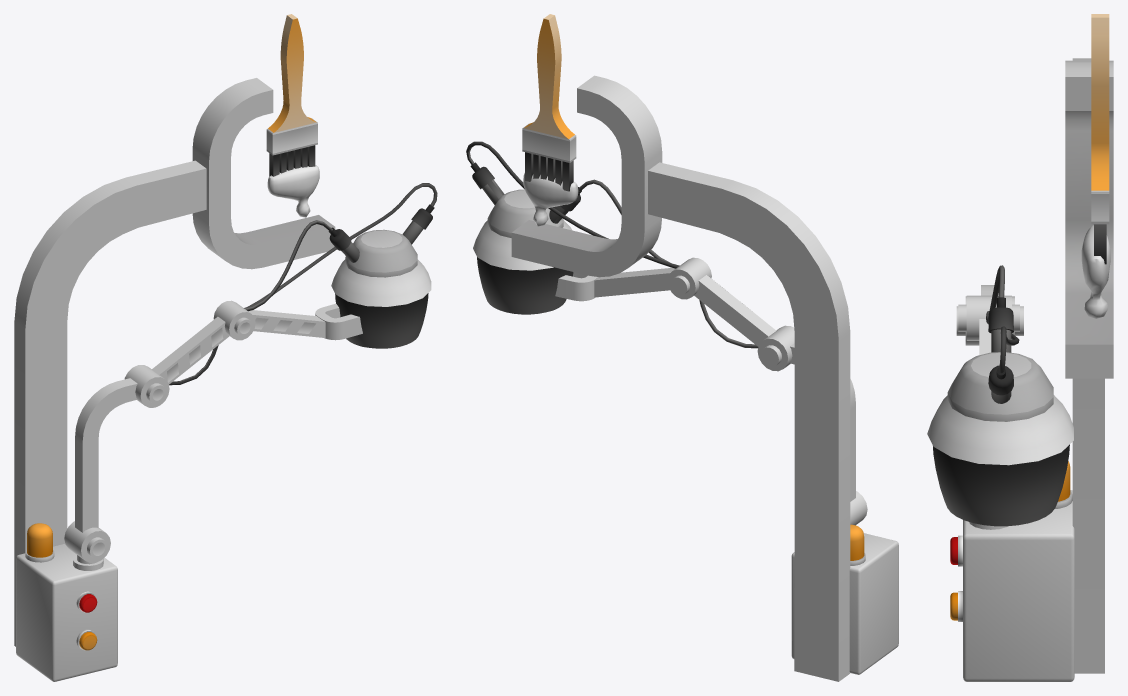
The model's file is baby_boss_sac_boyama.fbx.
3 views of the same model, side by side, from view 1: azimuth 30°, elevation 25°; view 2: azimuth 150°, elevation 25°; view 3: azimuth 270°, elevation 25° (orthographic). The views are drawn at different scales.
Visible parts, largest first — view 1: baby_boss_sac_boyama_tabela, baby_boss_sac_boyama_kutu, baby_boss_sac_boyama_kabin, baby_boss_boya_firca, baby_boss_sac_boyama_kol1, baby_boss_sac_boyama_kol2, baby_boss_sac_boyama_yuvarlak1, baby_boss_sac_boyama_kol3, BezierCurve.001, baby_boss_sac_boyama_yuvarlak2, baby_boss_sac_boyama_kol4, baby_boss_sac_boyama_yuvarlak3 (+1 smaller); view 2: baby_boss_sac_boyama_tabela, baby_boss_sac_boyama_kabin, baby_boss_boya_firca, baby_boss_sac_boyama_kutu, baby_boss_sac_boyama_kol2, baby_boss_sac_boyama_kol3, baby_boss_sac_boyama_yuvarlak2, baby_boss_sac_boyama_yuvarlak3, BezierCurve.001, baby_boss_sac_boyama_kol4, baby_boss_sac_boyama_kol1; view 3: baby_boss_sac_boyama_kabin, baby_boss_sac_boyama_tabela, baby_boss_sac_boyama_kutu, baby_boss_boya_firca, baby_boss_sac_boyama_yuvarlak3, BezierCurve.001, baby_boss_sac_boyama_siren, baby_boss_sac_boyama_kol3, baby_boss_sac_boyama_yuvarlak2, baby_boss_sac_boyama_dugme1, baby_boss_sac_boyama_dugme2.
Part boxes in pixels (x1=…): baby_boss_sac_boyama_tabela: x1=14, y1=78, x2=335, y2=646; baby_boss_sac_boyama_kutu: x1=16, y1=543, x2=117, y2=681; baby_boss_sac_boyama_kabin: x1=328, y1=204, x2=434, y2=348; baby_boss_boya_firca: x1=266, y1=14, x2=319, y2=217; baby_boss_sac_boyama_kol1: x1=75, y1=378, x2=137, y2=532; baby_boss_sac_boyama_kol2: x1=152, y1=316, x2=229, y2=384; baby_boss_sac_boyama_yuvarlak1: x1=64, y1=521, x2=110, y2=570; baby_boss_sac_boyama_kol3: x1=248, y1=310, x2=325, y2=337; BezierCurve.001: x1=244, y1=183, x2=437, y2=311; baby_boss_sac_boyama_yuvarlak2: x1=124, y1=365, x2=169, y2=407; baby_boss_sac_boyama_kol4: x1=315, y1=303, x2=362, y2=340; baby_boss_sac_boyama_yuvarlak3: x1=213, y1=300, x2=255, y2=340; baby_boss_sac_boyama_tabela: x1=511, y1=75, x2=850, y2=681; baby_boss_sac_boyama_kabin: x1=470, y1=162, x2=581, y2=314; baby_boss_boya_firca: x1=522, y1=14, x2=578, y2=226; baby_boss_sac_boyama_kutu: x1=791, y1=533, x2=898, y2=674; baby_boss_sac_boyama_kol2: x1=694, y1=275, x2=776, y2=346; baby_boss_sac_boyama_kol3: x1=594, y1=267, x2=675, y2=297; baby_boss_sac_boyama_yuvarlak2: x1=757, y1=325, x2=794, y2=371; baby_boss_sac_boyama_yuvarlak3: x1=667, y1=257, x2=711, y2=299; BezierCurve.001: x1=466, y1=141, x2=679, y2=268; baby_boss_sac_boyama_kol4: x1=555, y1=272, x2=598, y2=301; baby_boss_sac_boyama_kol1: x1=790, y1=343, x2=855, y2=501; baby_boss_sac_boyama_kabin: x1=927, y1=297, x2=1073, y2=526; baby_boss_sac_boyama_tabela: x1=1065, y1=58, x2=1113, y2=673; baby_boss_sac_boyama_kutu: x1=963, y1=490, x2=1074, y2=681; baby_boss_boya_firca: x1=1081, y1=14, x2=1110, y2=318; baby_boss_sac_boyama_yuvarlak3: x1=958, y1=295, x2=1019, y2=340; BezierCurve.001: x1=986, y1=265, x2=1019, y2=372; baby_boss_sac_boyama_siren: x1=1055, y1=461, x2=1072, y2=508; baby_boss_sac_boyama_kol3: x1=979, y1=319, x2=991, y2=354; baby_boss_sac_boyama_yuvarlak2: x1=956, y1=296, x2=1023, y2=345; baby_boss_sac_boyama_dugme1: x1=950, y1=591, x2=962, y2=621; baby_boss_sac_boyama_dugme2: x1=950, y1=535, x2=962, y2=566.
Bounding box in the file's own units: 1.89 × 2.55 × 0.5227.
